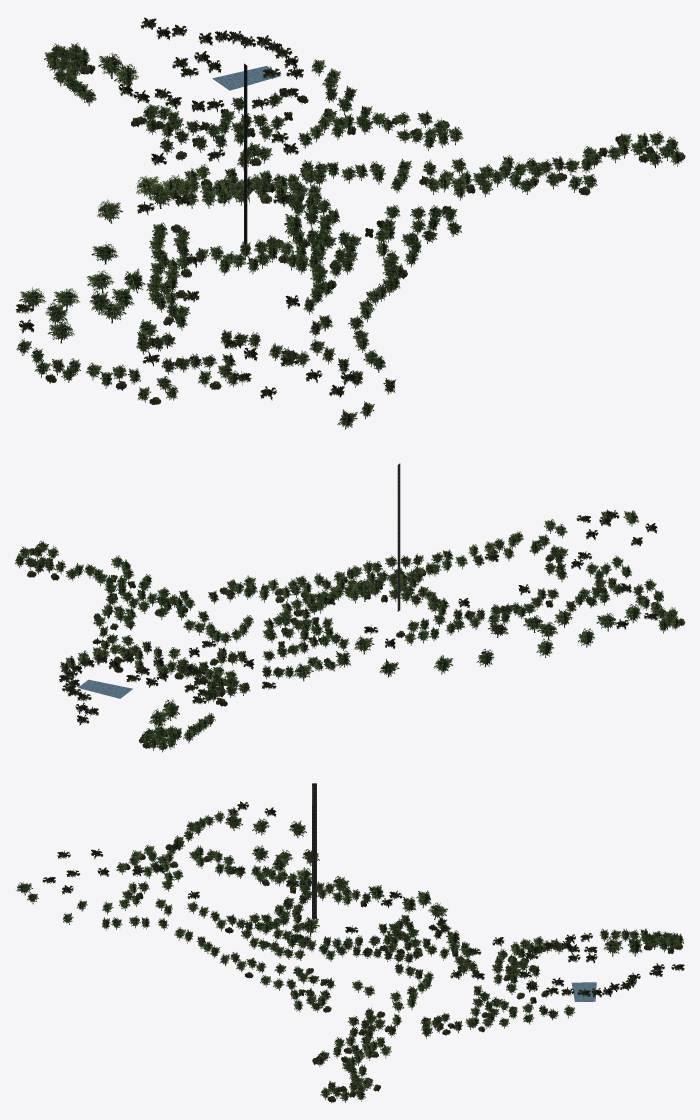
File: passthrough.obj
3 views of the same model, one above another, from view 1: azimuth 30°, elevation 25°; view 2: azimuth 150°, elevation 25°; view 3: azimuth 270°, elevation 25° (orthographic). The views are drawn at different scales.
Visible parts, largest first — view 1: vegetation, ocean.001, fakeladder; view 2: vegetation, fakeladder, ocean.001; view 3: vegetation, fakeladder.
Boxes of the visible parts, bbox=[...] form: vegetation: bbox=[15, 17, 685, 429]; ocean.001: bbox=[212, 66, 280, 90]; fakeladder: bbox=[244, 63, 247, 244]; vegetation: bbox=[15, 509, 685, 752]; fakeladder: bbox=[397, 463, 400, 611]; ocean.001: bbox=[78, 679, 132, 698]; vegetation: bbox=[16, 801, 684, 1103]; fakeladder: bbox=[312, 783, 316, 919].
Bounding box in the file's own units: 154 × 44.18 × 165.
3 materials, 3 textured.
